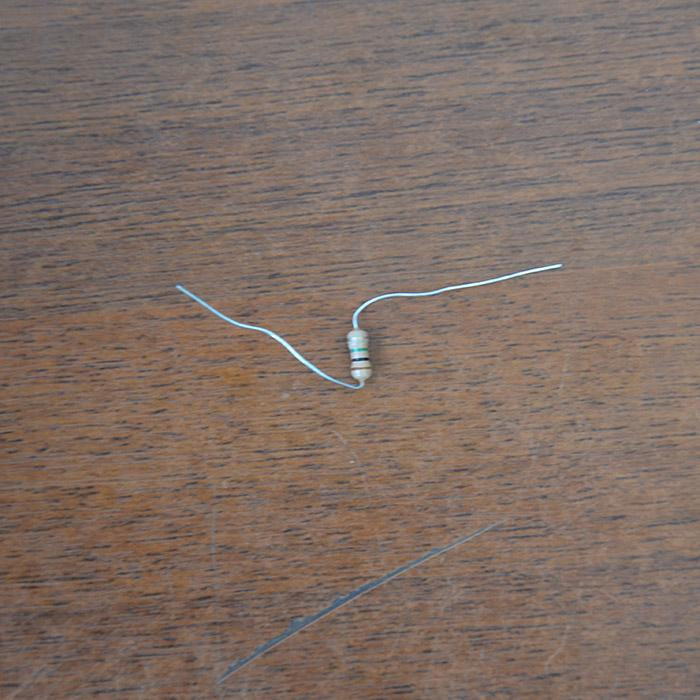resistor: (346, 327, 373, 381)
